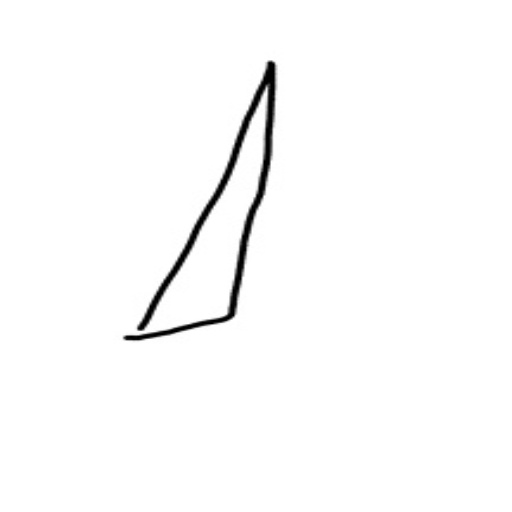triangle: (115, 57, 283, 350)
